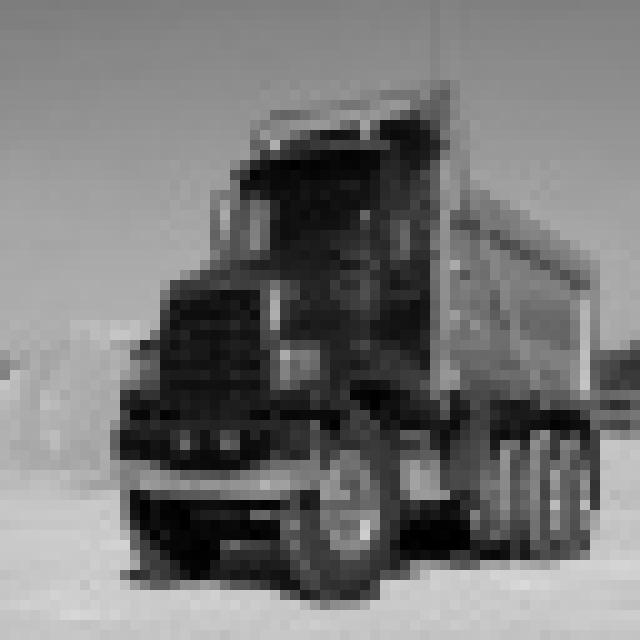trucks: (106, 68, 606, 614)
